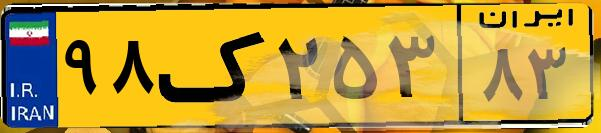2: (270, 28, 330, 110)
3: (385, 28, 445, 110), (525, 38, 570, 115)
5: (330, 28, 385, 110)
8: (475, 38, 525, 113), (110, 28, 158, 98)
9: (57, 26, 110, 100)
ک: (158, 12, 270, 120)
